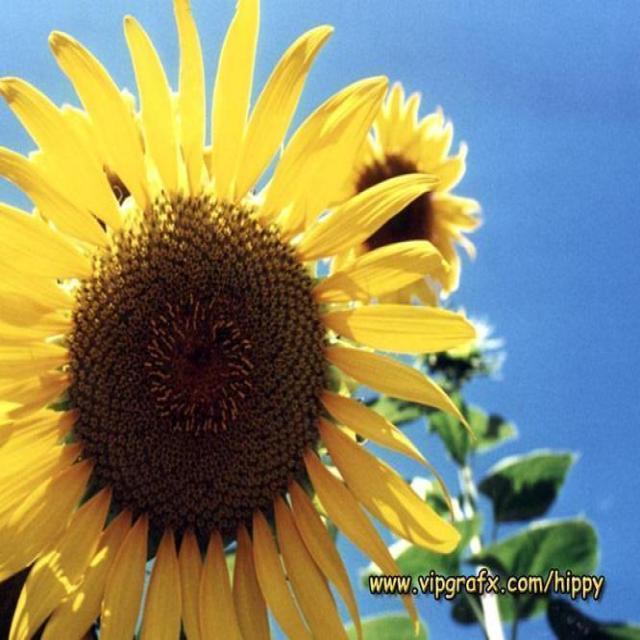sunflower: (0, 0, 474, 637)
